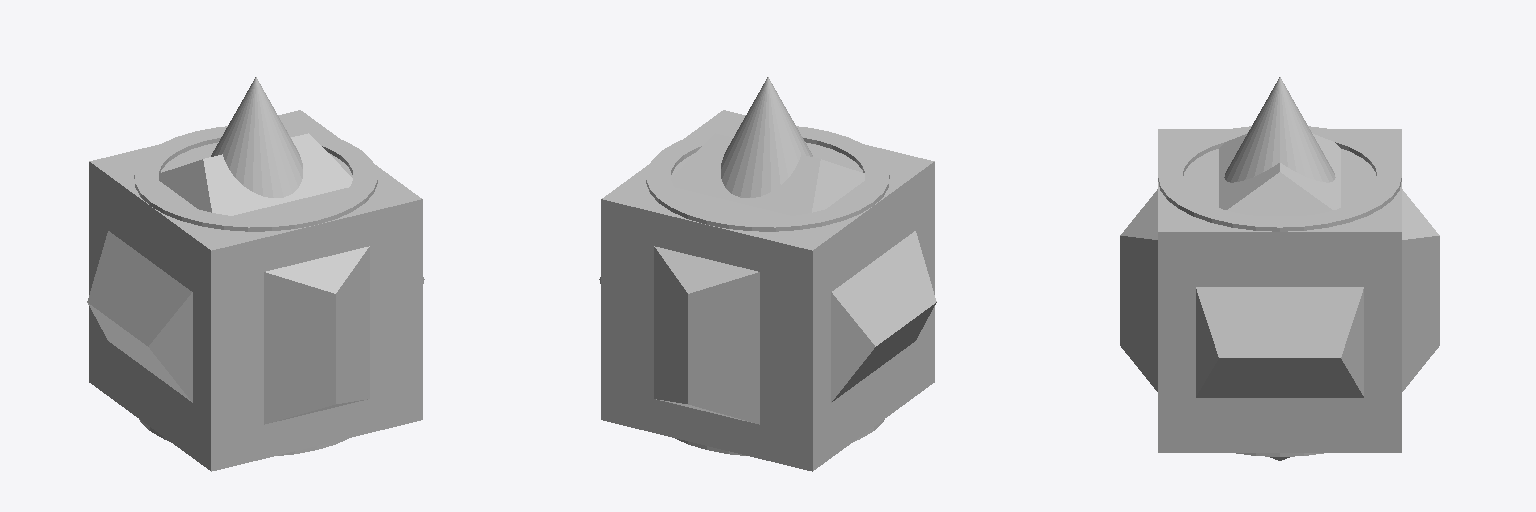
3 views of the same model, side by side, from view 1: azimuth 30°, elevation 25°; view 2: azimuth 150°, elevation 25°; view 3: azimuth 270°, elevation 25° (orthographic).
Parts seen in each view (by area): view 1: cube_Cube.001, dodecahedron_Cube.002, hollow_cylinder_Cylinder.001, cone_Cone, hexagon_cylinder_Cylinder.002, Cylinder; view 2: cube_Cube.001, dodecahedron_Cube.002, hollow_cylinder_Cylinder.001, cone_Cone, Cylinder; view 3: cube_Cube.001, dodecahedron_Cube.002, hollow_cylinder_Cylinder.001, cone_Cone, Cylinder, hexagon_cylinder_Cylinder.002.
Part boxes in pixels (x1,y1,x2,y2): cube_Cube.001: (89, 110, 422, 471); dodecahedron_Cube.002: (87, 133, 424, 424); hollow_cylinder_Cylinder.001: (134, 126, 377, 455); cone_Cone: (211, 77, 302, 197); hexagon_cylinder_Cylinder.002: (134, 144, 352, 215); Cylinder: (164, 142, 352, 216); cube_Cube.001: (601, 110, 934, 471); dodecahedron_Cube.002: (599, 133, 936, 424); hollow_cylinder_Cylinder.001: (646, 126, 889, 455); cone_Cone: (721, 77, 812, 197); Cylinder: (671, 142, 861, 216); cube_Cube.001: (1158, 129, 1401, 452); dodecahedron_Cube.002: (1120, 133, 1439, 460); hollow_cylinder_Cylinder.001: (1158, 126, 1401, 456); cone_Cone: (1224, 77, 1335, 182); Cylinder: (1183, 149, 1376, 216); hexagon_cylinder_Cylinder.002: (1183, 149, 1376, 216).
Bounding box in the file's own units: 2.62 × 3.25 × 2.62.